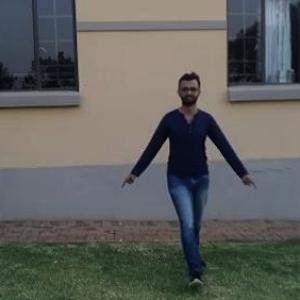land: (128, 78, 248, 260)
